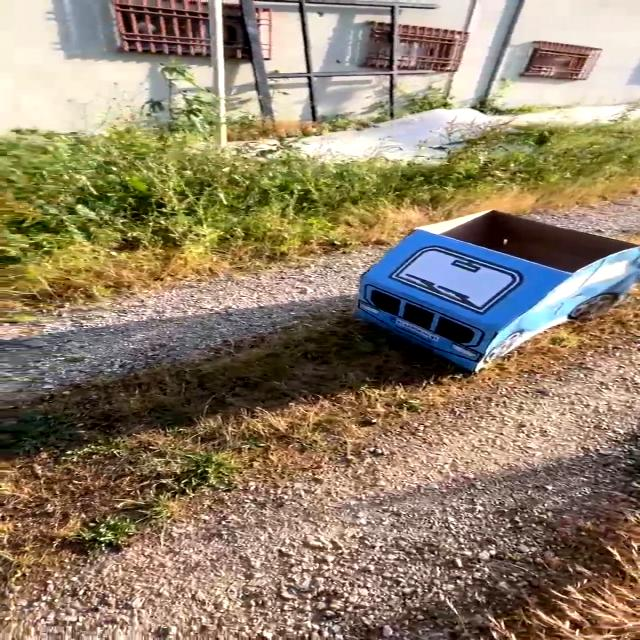blue_car: (277, 173, 640, 404)
